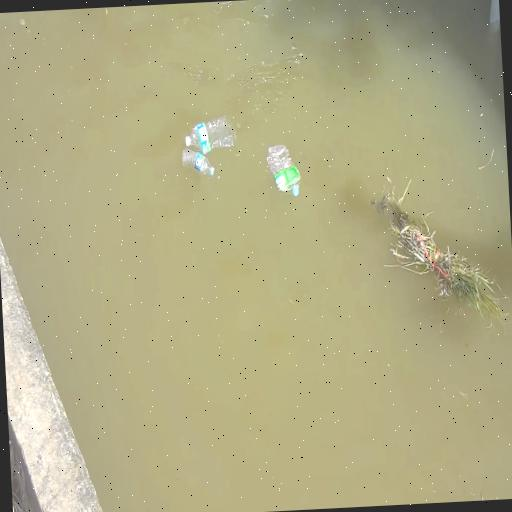plastic: (186, 117, 234, 155), (266, 145, 299, 196), (182, 149, 213, 176), (292, 185, 298, 197), (185, 136, 190, 146)
twig: (372, 187, 504, 318)
